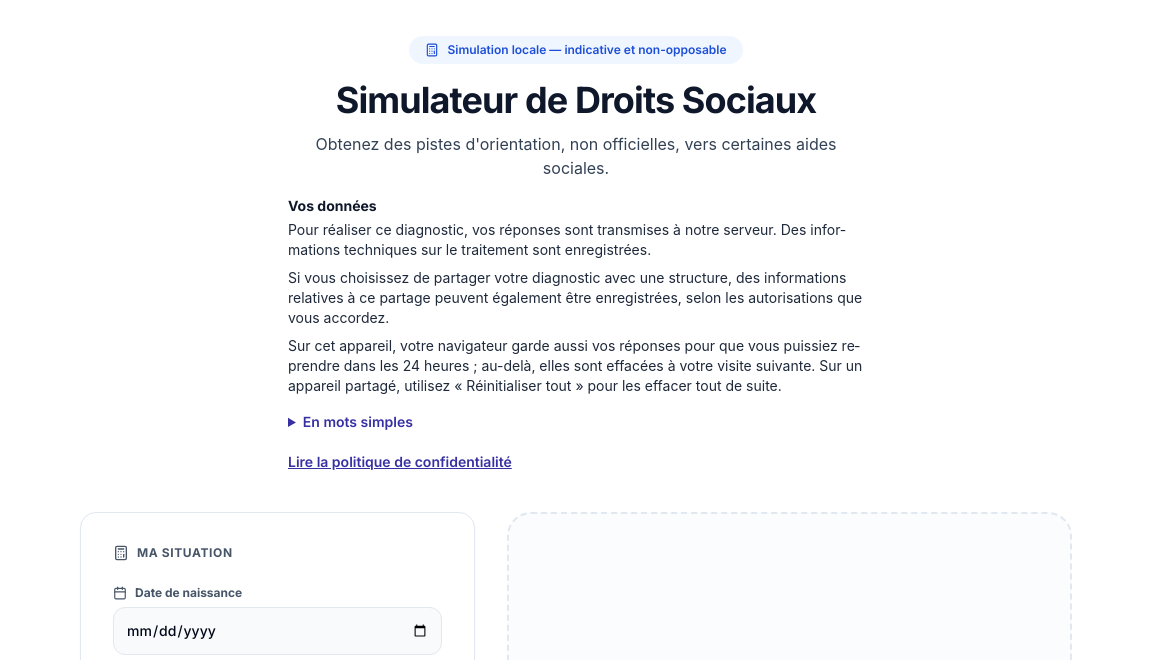
Test: U10 — accessibility (jsdom-level): names, roles, headings, axe serious/critical = 0 › assisted access (J-C): the page states that acting remotely for another person is not supported
Type "1992-03-10" into the date field with id "diag-birthdate" at (277, 631), box [113, 607, 442, 655]
(page scrolled)
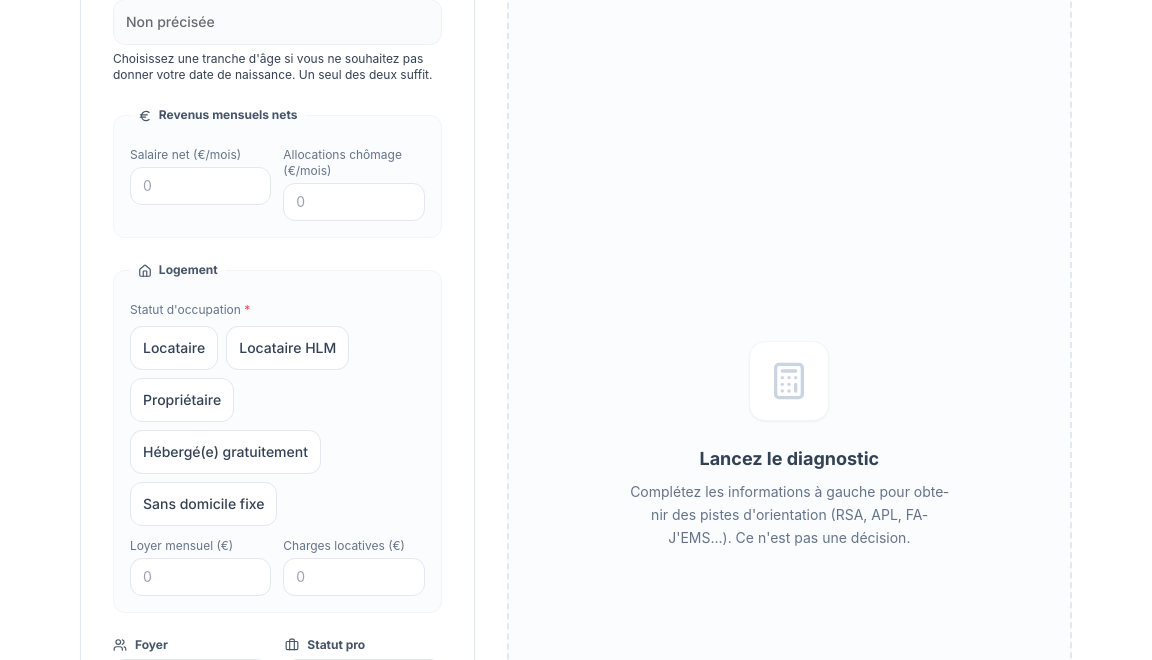
Click the radio button labelled "Locataire" at (174, 348), box [130, 326, 218, 370]
(page scrolled)
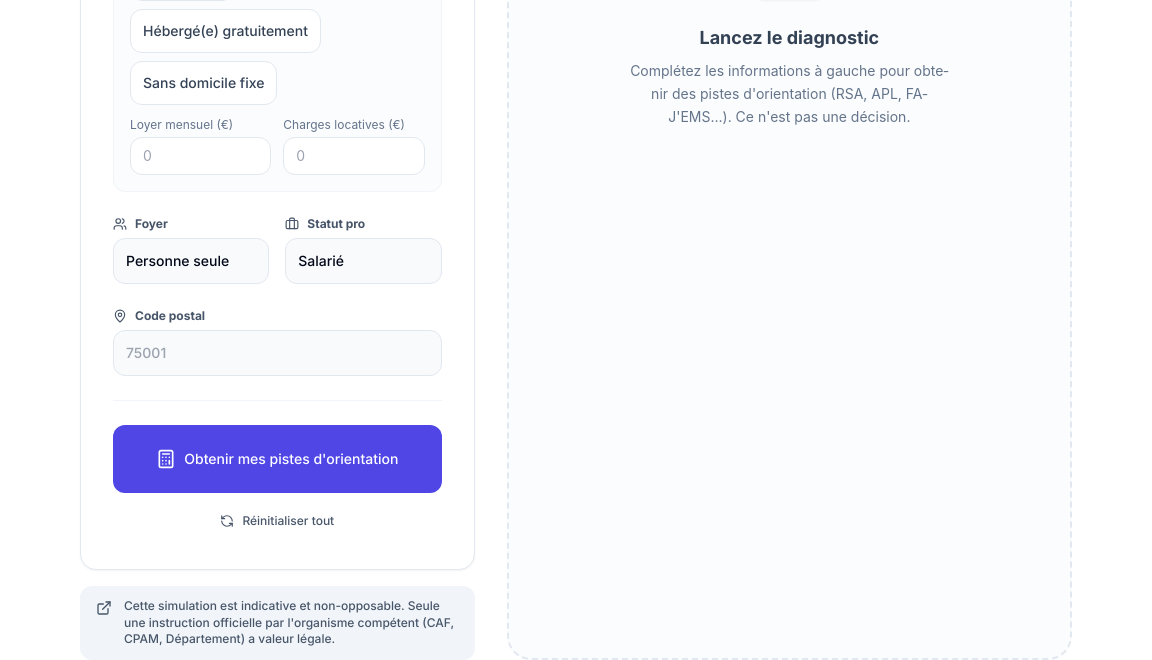
Click the button with id "diag-calculate-btn" at (277, 459), box [113, 425, 442, 493]
(page scrolled)
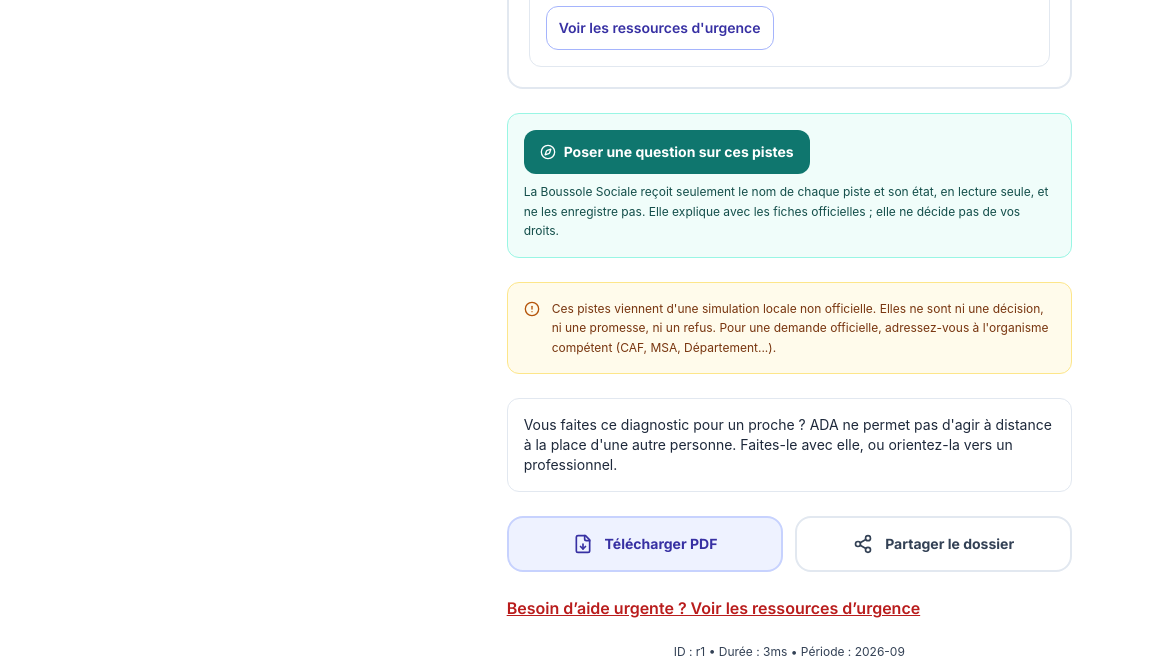
Expected: the text with test id "assisted-note" shows "ne permet pas d.agir à distance à la place d.une autre personne", [524, 416, 1052, 473]
